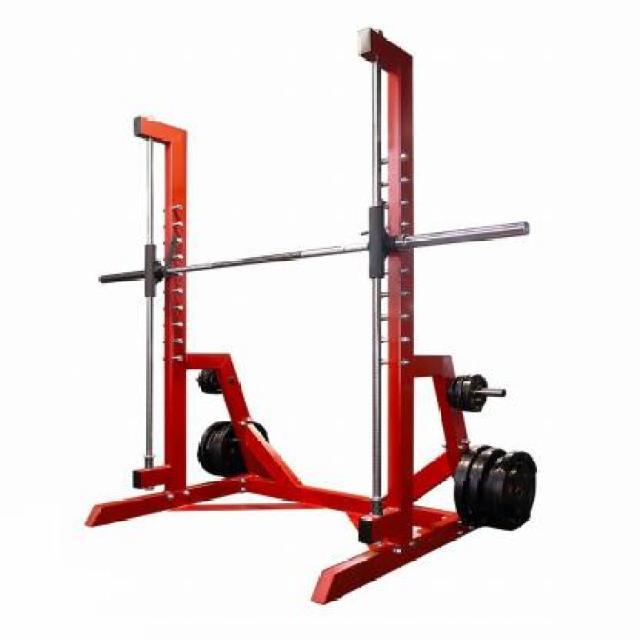smith machine: (81, 25, 537, 606)
